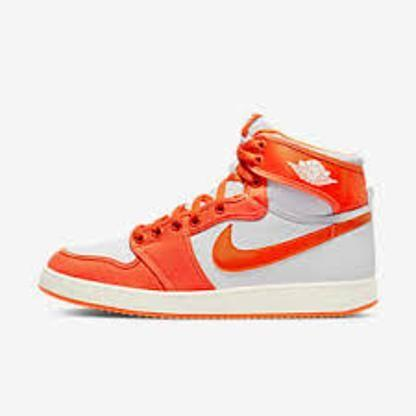not trash: (37, 112, 378, 317)
